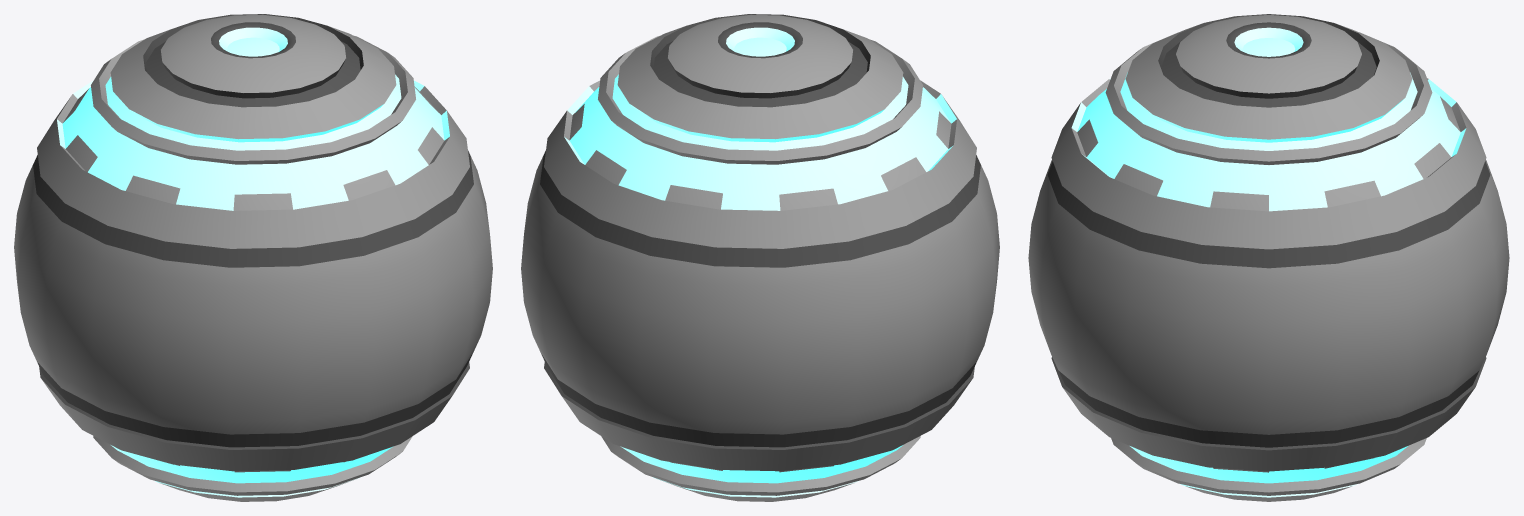
File: Ball2.fbx
3 renders of one model, left to right at view 1: azimuth 30°, elevation 25°; view 2: azimuth 150°, elevation 25°; view 3: azimuth 270°, elevation 25°, orthographic.
Parts seen in each view (by area): view 1: pSphere2; view 2: pSphere2; view 3: pSphere2.
Boxes of the visible parts, box(x1,y1,x2,y2) form: pSphere2: box(14, 14, 492, 501); pSphere2: box(521, 14, 999, 501); pSphere2: box(1028, 14, 1509, 501).
Size of the model in its own units: 2.76 by 2.75 by 2.76.
